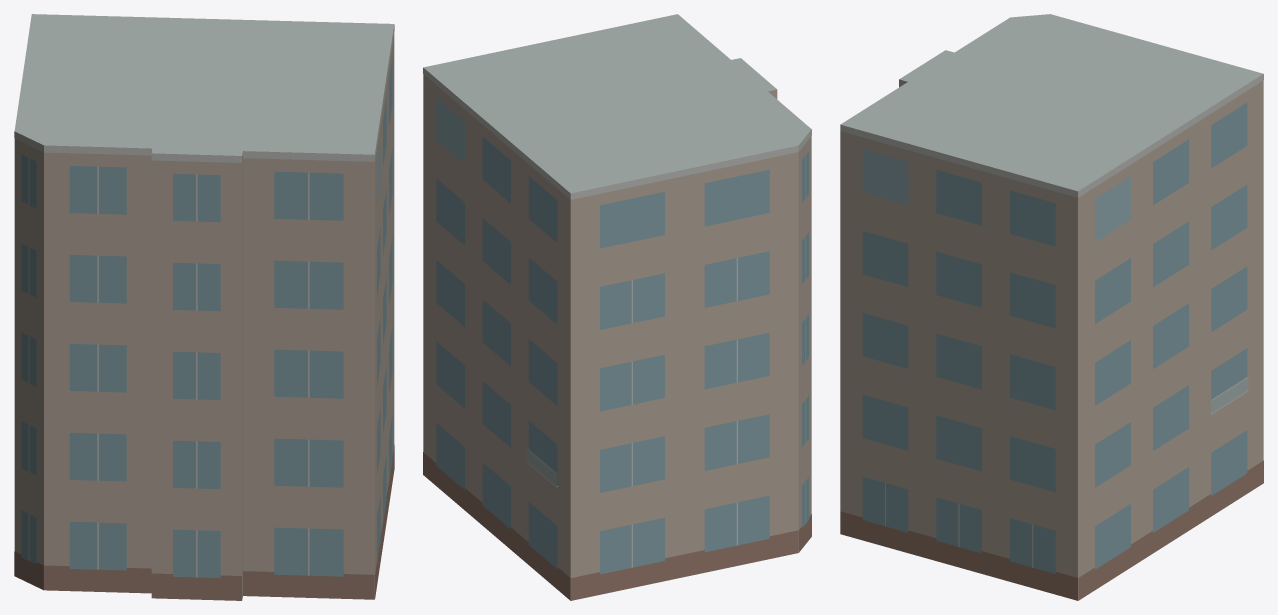
File: survey-upis-32608234.glb
3 views of the same model, side by side, from view 1: azimuth 30°, elevation 25°; view 2: azimuth 150°, elevation 25°; view 3: azimuth 270°, elevation 25° (orthographic). The views are drawn at different scales.
Parts seen in each view (by area): view 1: survey-upis-32608234.tmp; view 2: survey-upis-32608234.tmp; view 3: survey-upis-32608234.tmp.
Part boxes in pixels (x1,y1,x2,y2): survey-upis-32608234.tmp: (14, 14, 394, 600); survey-upis-32608234.tmp: (423, 14, 811, 600); survey-upis-32608234.tmp: (840, 14, 1263, 600).
Bounding box in the file's own units: 14.32 × 15.4 × 14.44.
